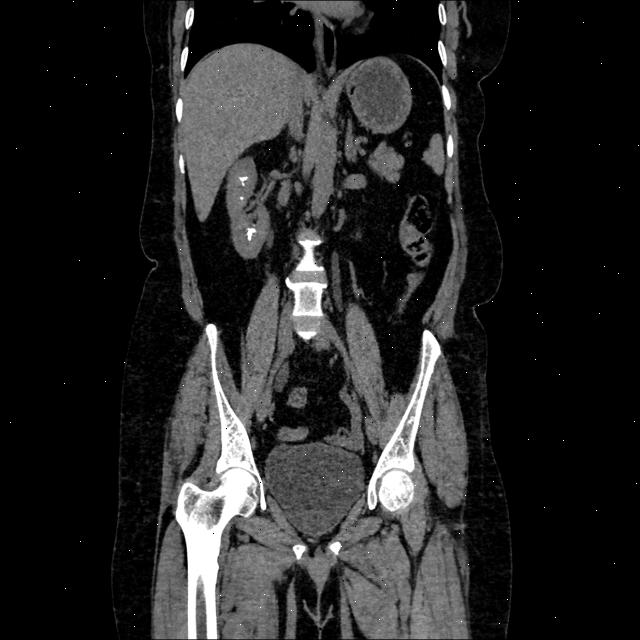kidneystone: (246, 227, 256, 240), (239, 176, 248, 187), (240, 196, 244, 201)
